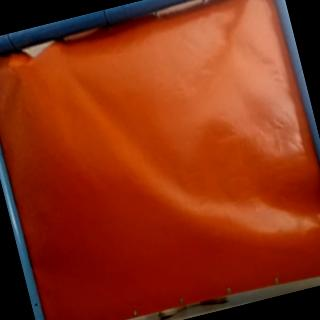Hit-hRxx: (3, 52, 23, 72)
